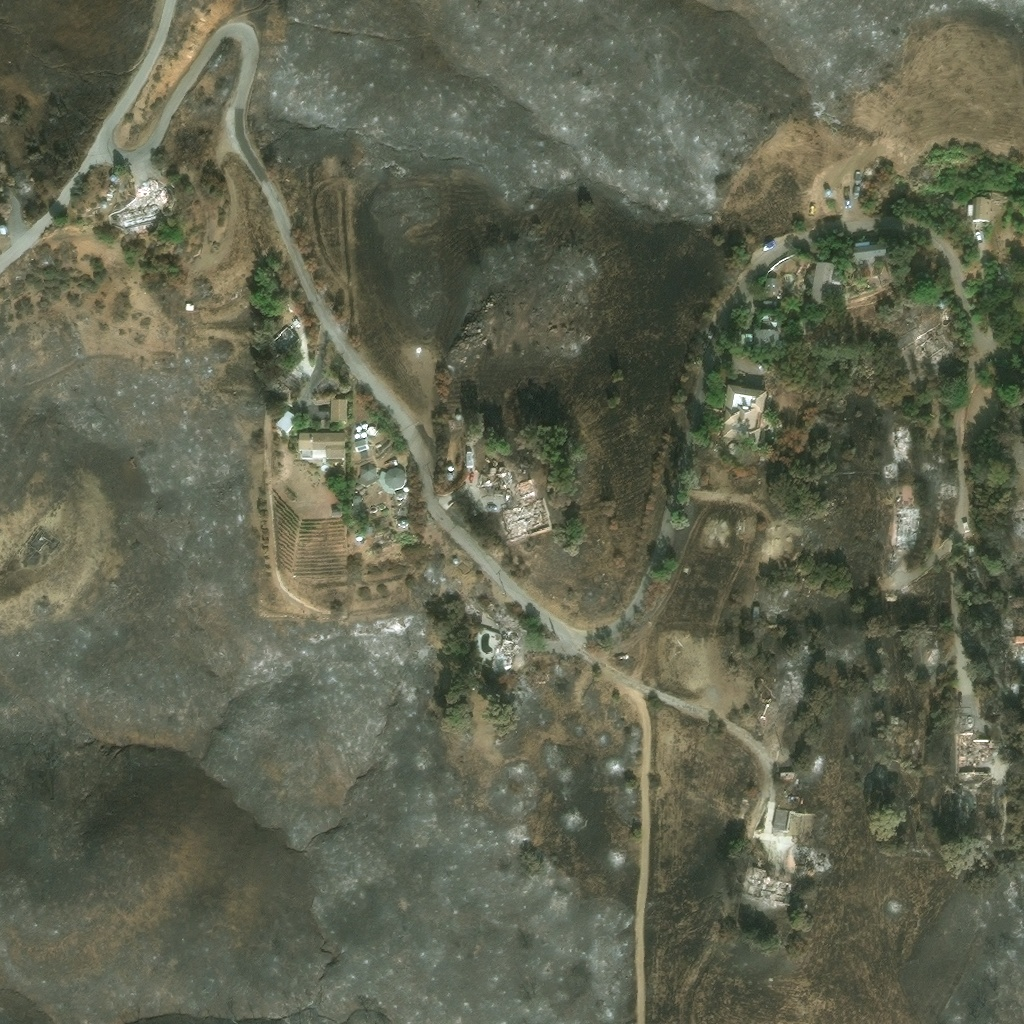0 no-damage: (720, 385, 769, 447), (295, 431, 345, 461), (810, 262, 842, 307), (966, 192, 1006, 223), (852, 242, 887, 266), (273, 409, 297, 434), (383, 468, 407, 490), (753, 329, 780, 348), (329, 397, 347, 422), (359, 462, 377, 481), (941, 197, 962, 212), (357, 475, 378, 485), (355, 439, 366, 450), (764, 279, 776, 289), (396, 517, 408, 527), (367, 426, 378, 436), (184, 302, 193, 311), (963, 521, 970, 532), (445, 473, 453, 482), (352, 505, 361, 513), (752, 605, 759, 615), (332, 508, 340, 516), (824, 188, 831, 197), (351, 495, 360, 502), (99, 200, 107, 207), (352, 432, 360, 439), (394, 490, 402, 497), (355, 535, 363, 542), (446, 465, 453, 472), (0, 225, 5, 234), (360, 432, 367, 438), (109, 175, 115, 181), (361, 423, 367, 429), (455, 414, 461, 420), (355, 426, 361, 431), (453, 558, 457, 563)
2 major-damage: (962, 542, 974, 563)
3 destroyed: (500, 479, 553, 543), (743, 864, 791, 907), (263, 322, 303, 366), (490, 624, 523, 672), (117, 201, 168, 231), (954, 730, 988, 774), (890, 505, 920, 547), (891, 425, 912, 461), (135, 180, 166, 204), (917, 333, 946, 358), (791, 842, 812, 875), (479, 472, 511, 489), (281, 367, 305, 389), (772, 808, 791, 833), (933, 298, 953, 320), (922, 644, 936, 665), (957, 714, 971, 730), (812, 853, 825, 867), (940, 481, 955, 492), (883, 463, 893, 478), (107, 181, 113, 188)
4 un-classified: (1006, 632, 1023, 646), (1014, 447, 1023, 461)
